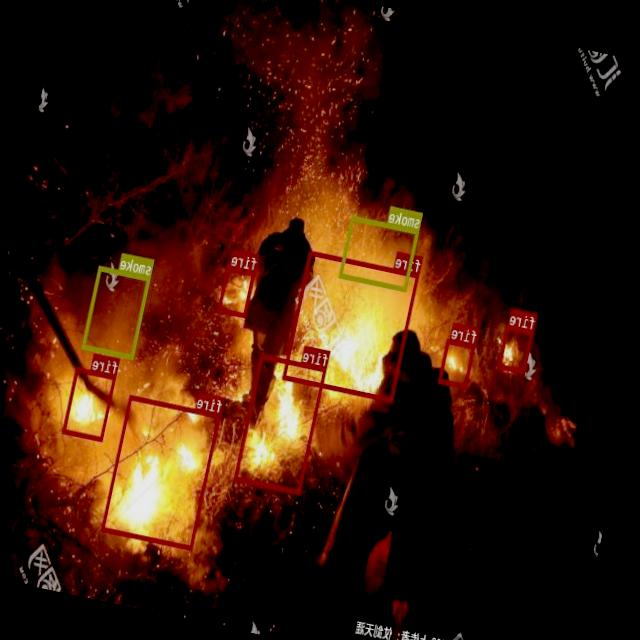fire: (282, 249, 420, 402), (101, 394, 222, 550), (234, 352, 327, 493), (62, 366, 116, 440), (218, 264, 255, 318), (438, 338, 476, 388), (498, 324, 534, 373)
smoke: (81, 265, 151, 359), (339, 215, 420, 291)
